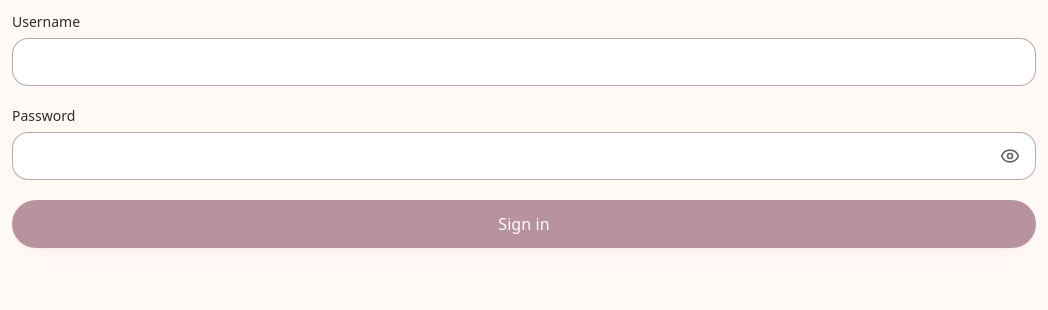
SignInForm › tells how long to wait when rate limited
Type "alex" into the field labelled "Username".
click(524, 62); type("alex")  # box [12,38,1036,86]
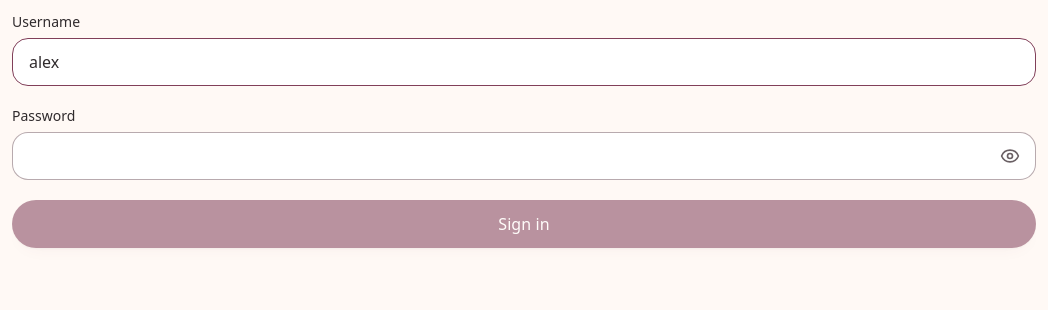
Type "correct horse battery" into the password field labelled "Password".
click(524, 156); type("correct horse battery")  # box [12,132,1036,180]
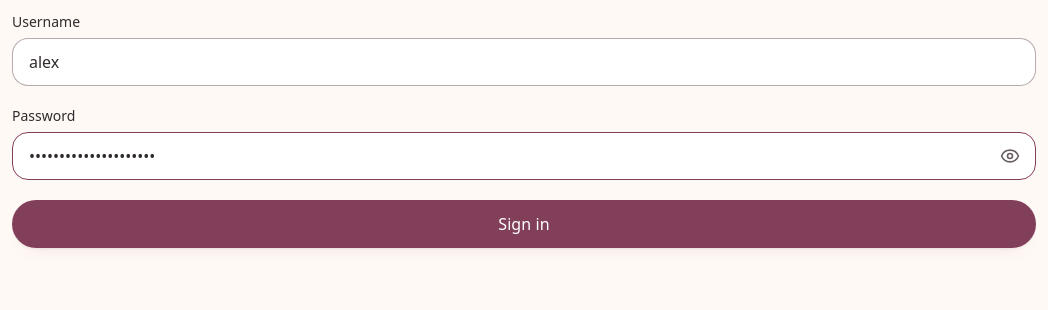
Click the button "Sign in".
click(524, 224)  # box [12,200,1036,248]
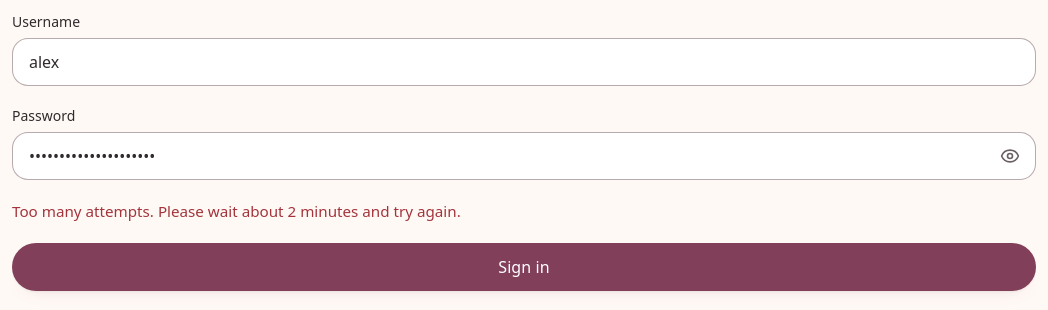
expect the message shows "Please wait about 2 minutes": met, box [12,201,461,221]
